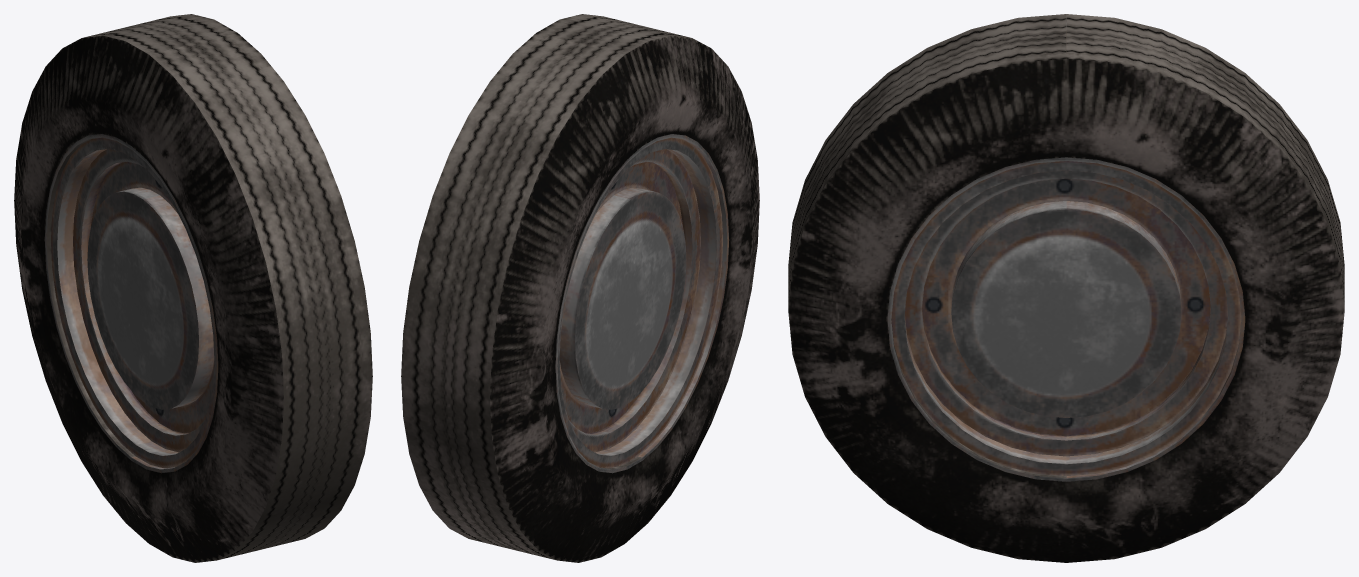
File: ZAZ965_wheel.obj
3 renders of one model, left to right at view 1: azimuth 30°, elevation 25°; view 2: azimuth 150°, elevation 25°; view 3: azimuth 270°, elevation 25°, orthographic. The views are drawn at different scales.
Parts seen in each view (by area): view 1: ZAZ_965; view 2: ZAZ_965; view 3: ZAZ_965.
Boxes of the visible parts, x1=… form: ZAZ_965: x1=14, y1=14, x2=372, y2=562; ZAZ_965: x1=401, y1=14, x2=759, y2=562; ZAZ_965: x1=788, y1=14, x2=1344, y2=562.
Size of the model in its own units: 0.5645 by 2 by 2.
Materials: 1 (1 with a texture image).
